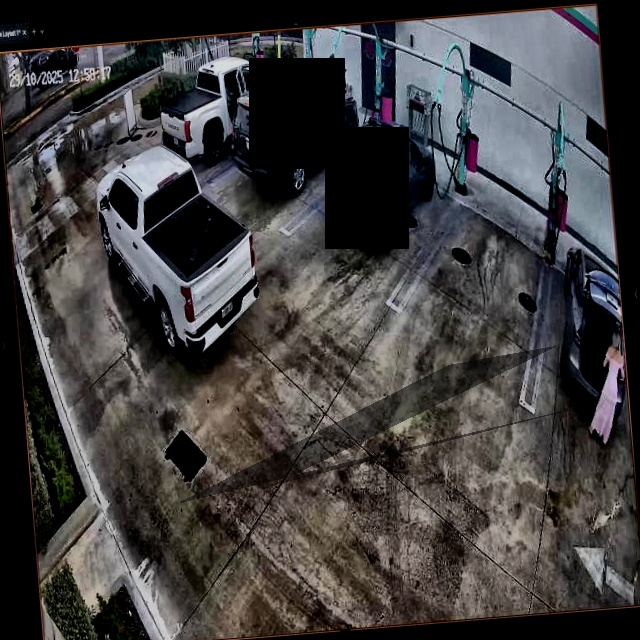Car: (92, 137, 264, 360), (227, 67, 364, 195), (322, 115, 439, 247), (155, 53, 287, 168)
